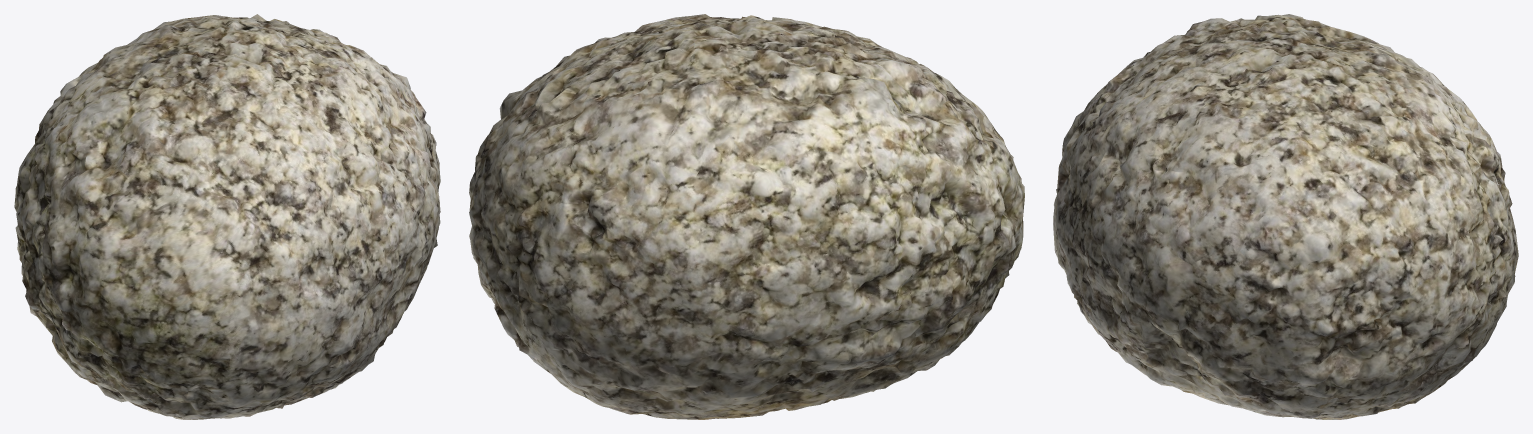
3 renders of one model, left to right at view 1: azimuth 30°, elevation 25°; view 2: azimuth 150°, elevation 25°; view 3: azimuth 270°, elevation 25°, orthographic. The views are drawn at different scales.
Parts seen in each view (by area): view 1: rock-003; view 2: rock-003; view 3: rock-003.
Boxes of the visible parts, bbox=[...] form: rock-003: bbox=[14, 14, 440, 419]; rock-003: bbox=[469, 14, 1024, 419]; rock-003: bbox=[1053, 14, 1518, 419].
Bounding box in the file's own units: 2 × 1.49 × 1.88.
Materials: 1 (1 with a texture image).
